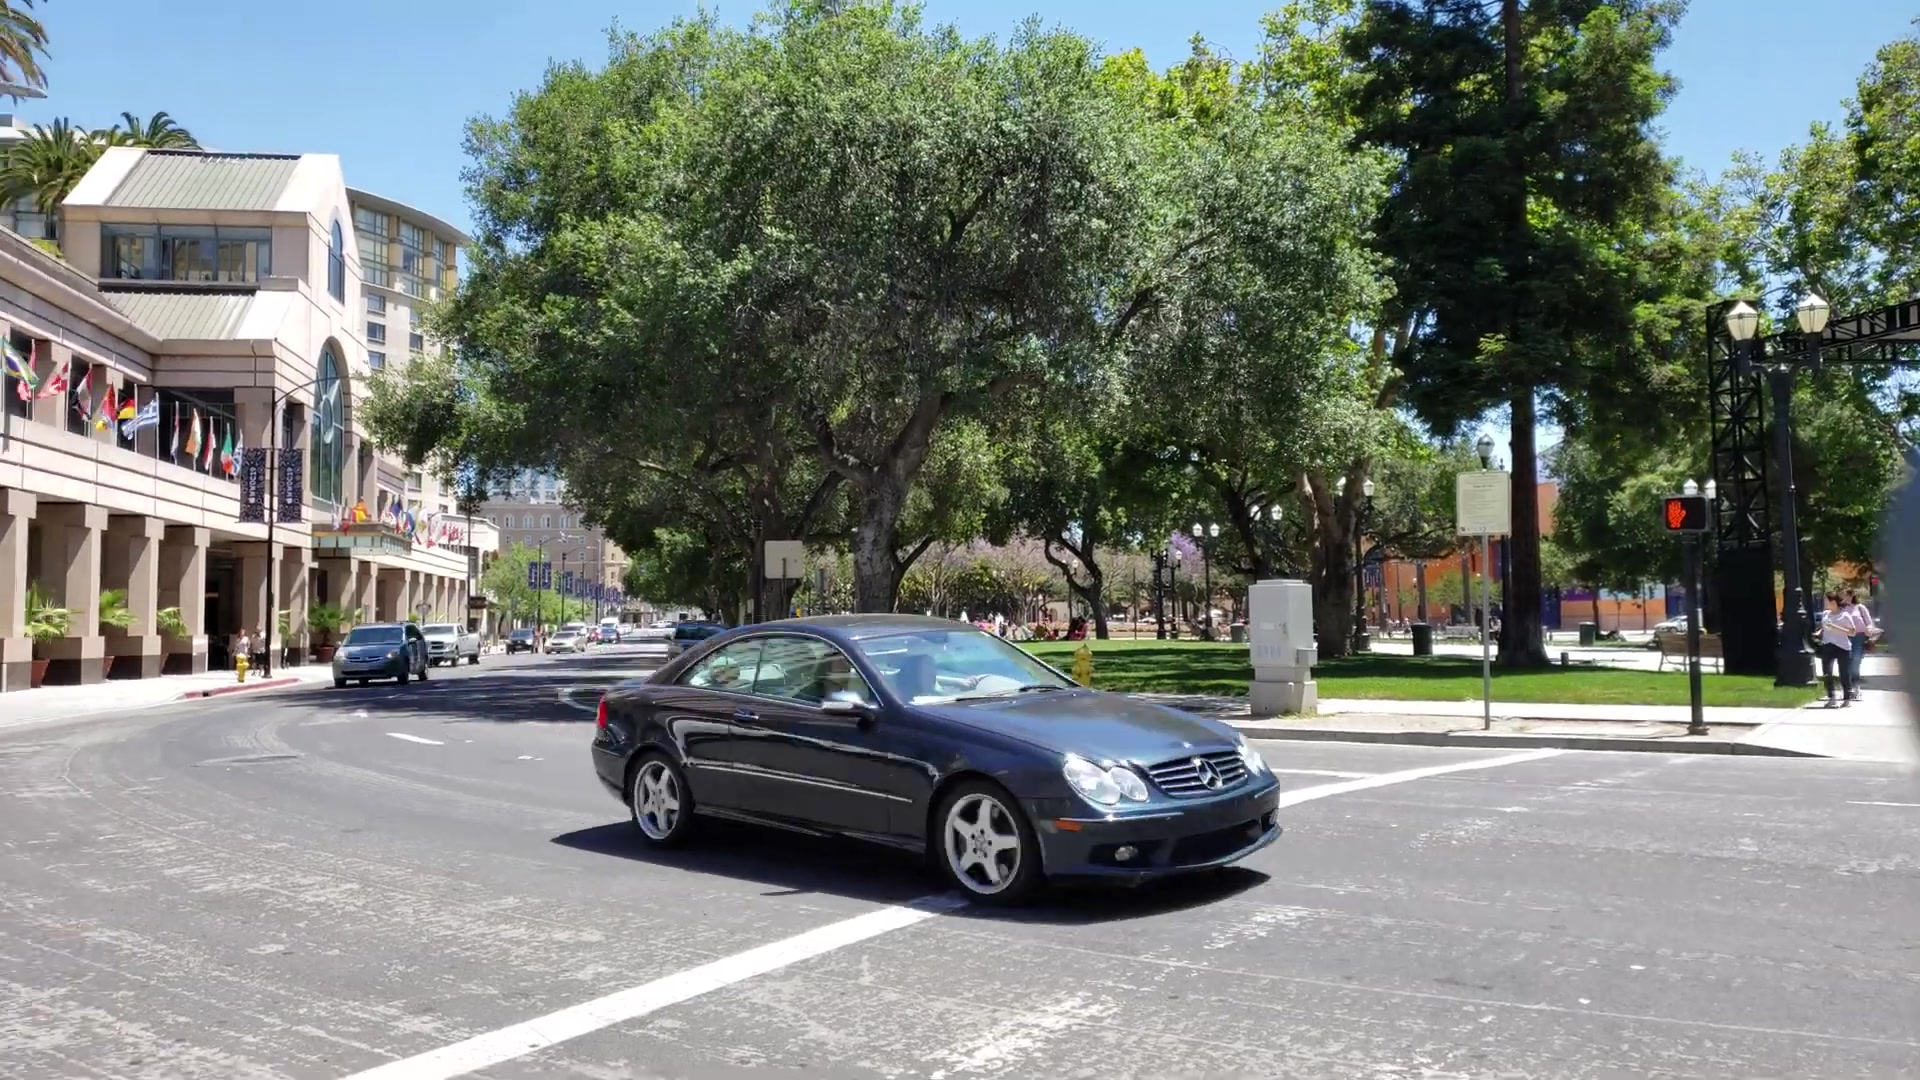vehicle: (592, 607, 1284, 911), (338, 624, 429, 679)
